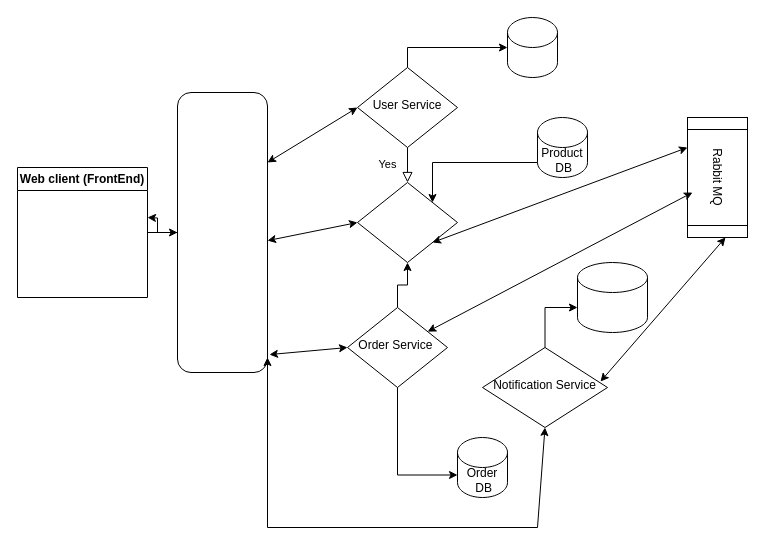
Some shapes in this 765 by 554 pixel diagram are drawn without their labels. Here are the shapes that lost their labels. From the top down, the centre of each, then its label:
At [532,47]: "User DB".
At [222,232]: "API Gateway".
At [407,222]: "Product".
At [612,297]: "Notification DB".
